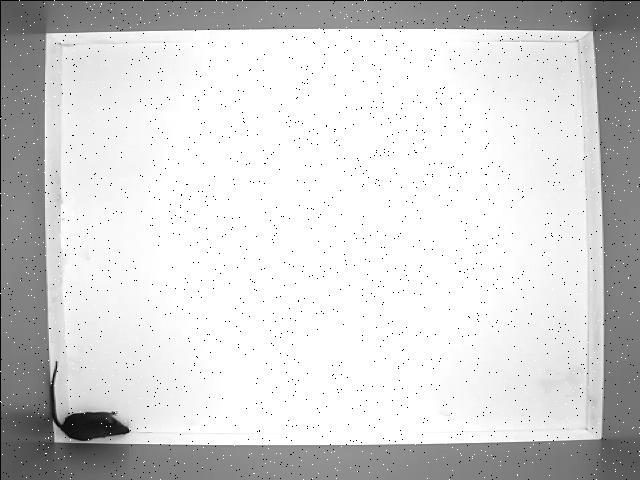Tikus: (47, 357, 128, 442)
